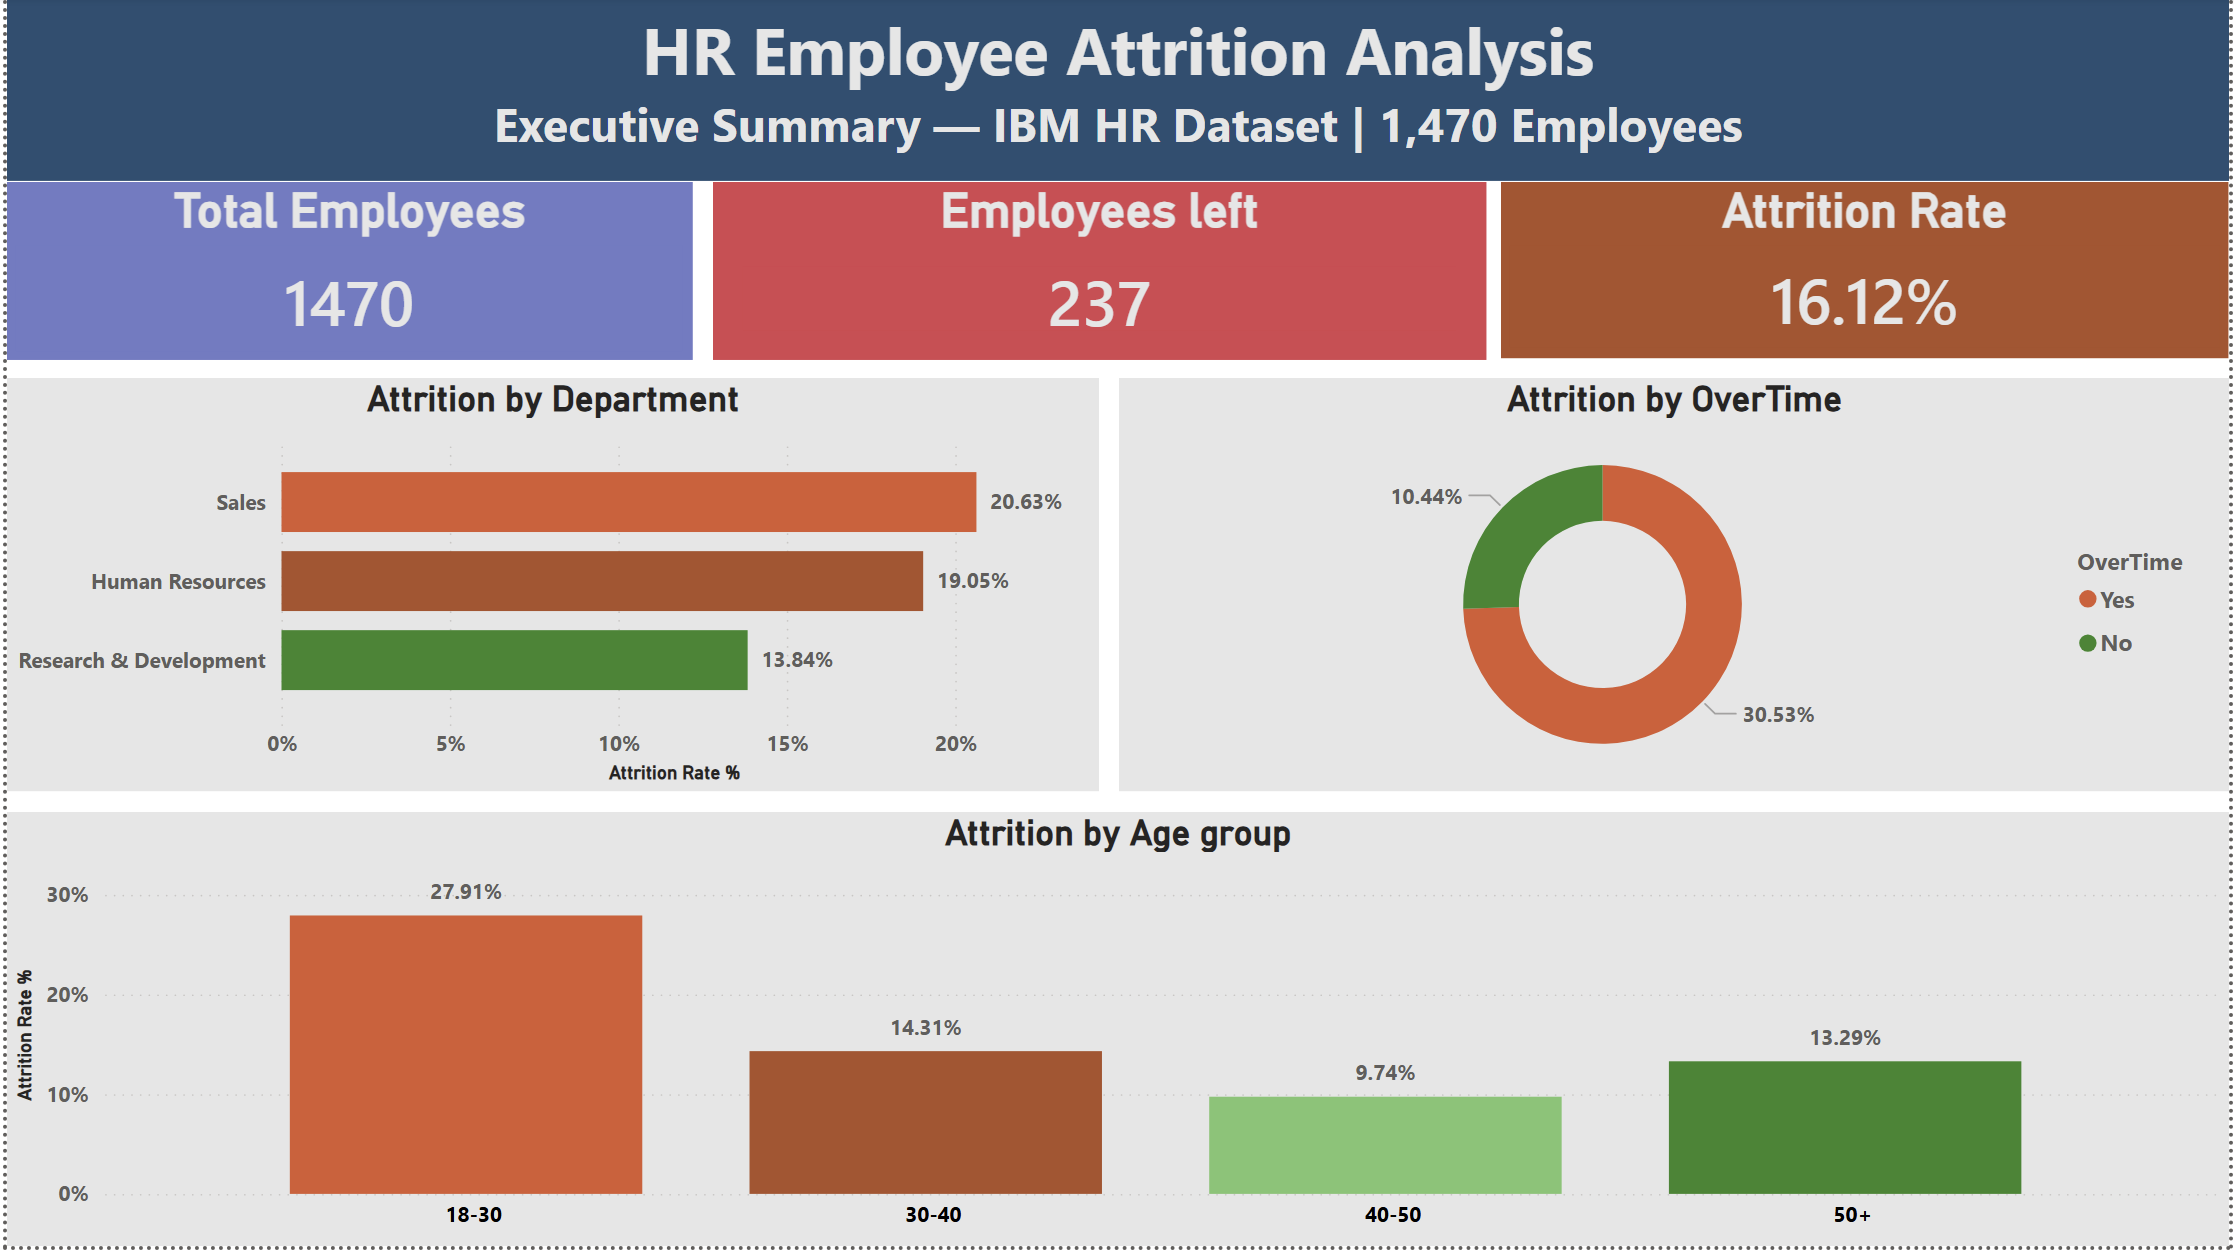

What the dashboard file says about the page in this screenshot:
{"tool":"powerbi","page":{"name":"Executive Summary","canvas":[1280,720],"ordinal":0},"visuals":[{"type":"cardVisual","title":"Total Employees","fields":{"Data":["HR-Employee-Attrition_Clean.Total Employees"]},"box":[0,107.5,394.9,102.6],"z":0},{"type":"cardVisual","title":"Employees left","fields":{"Data":["HR-Employee-Attrition_Clean.Employees Left"]},"box":[406.9,107.5,445.6,102.6],"z":1000},{"type":"cardVisual","title":"Attrition Rate ","fields":{"Data":["HR-Employee-Attrition_Clean.Attrition Rate %"]},"box":[861,107.5,419,101.4],"z":2000},{"type":"clusteredBarChart","title":"Attrition by Department","fields":{"Y":["HR-Employee-Attrition_Clean.Attrition Rate %"],"Category":["HR-Employee-Attrition_Clean.Department"]},"box":[0,219.8,629.1,237.9],"z":3000},{"type":"clusteredColumnChart","title":"Attrition by Age group","fields":{"Y":["HR-Employee-Attrition_Clean.Attrition Rate %"],"Category":["HR-Employee-Attrition_Clean.Age_group"]},"box":[0,469.7,1280,250],"z":4000},{"type":"donutChart","title":"Attrition by OverTime","fields":{"Category":["HR-Employee-Attrition_Clean.OverTime"],"Y":["HR-Employee-Attrition_Clean.Attrition Rate %"]},"box":[640,219.8,640,237.9],"z":5000},{"type":"textbox","box":[0,0,1280,106.4],"z":6000}]}

Visuals, with their boxes in screenshot pixels (x1, y1, x2, y2), scaled from the page's 1280x720 canvas onto the 2234x1250 screenshot:
"Total Employees" cardVisual: crop(0, 187, 689, 365)
"Employees left" cardVisual: crop(710, 187, 1488, 365)
"Attrition Rate " cardVisual: crop(1503, 187, 2233, 363)
"Attrition by Department" clusteredBarChart: crop(0, 382, 1098, 795)
"Attrition by Age group" clusteredColumnChart: crop(0, 815, 2233, 1249)
"Attrition by OverTime" donutChart: crop(1117, 382, 2233, 795)
textbox: crop(0, 0, 2233, 185)
